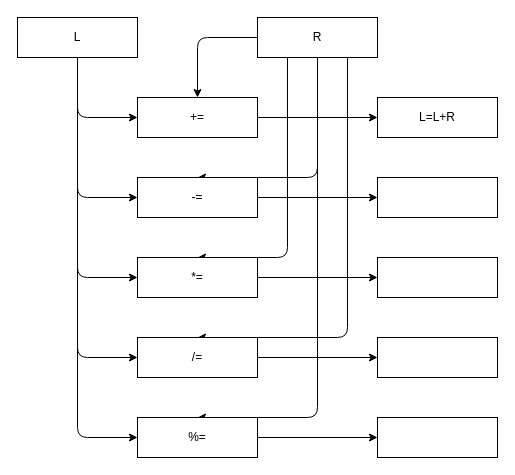
Some shapes in this 515 by 475 pixel diagram are drawn without their labels. The box of each missing label's shape, as (x1, y1, x2, y2) in pixels:
L=L%R: (376, 416, 498, 458)
L=L*R: (376, 256, 498, 298)
L=L-R: (376, 176, 498, 218)
L=L/R: (376, 336, 498, 378)
